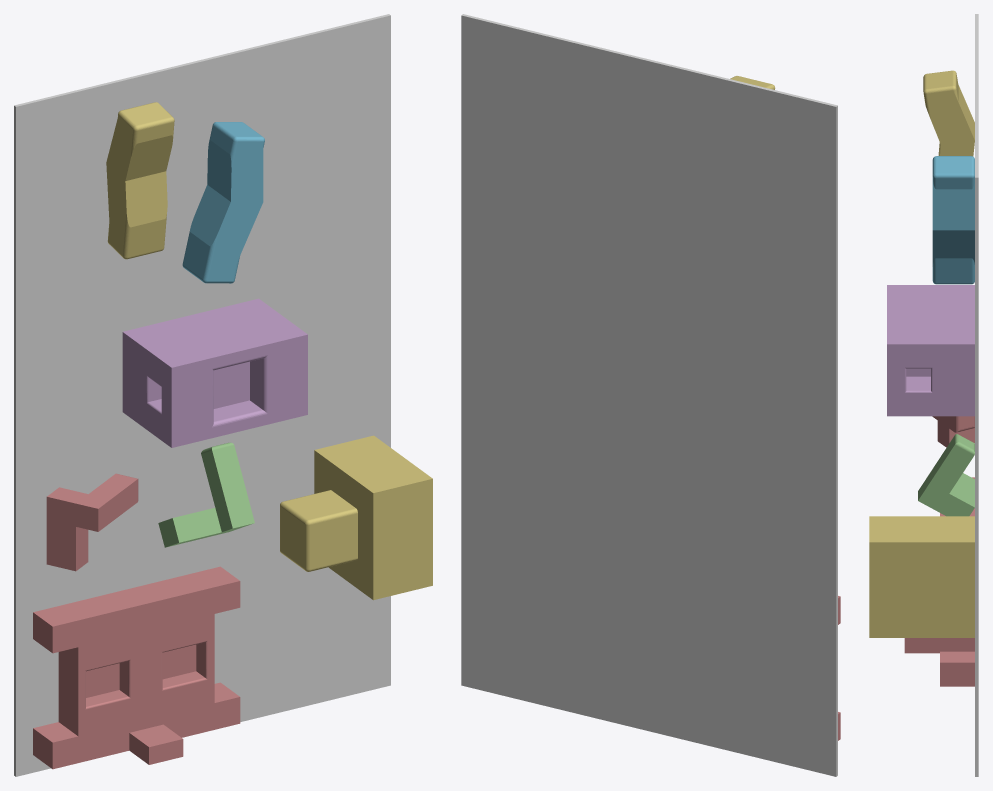
File: pickup_layout.glb
The picture shows the model from 3 angles, left to right: view 1: azimuth 30°, elevation 25°; view 2: azimuth 150°, elevation 25°; view 3: azimuth 270°, elevation 25°; orthographic projection. The views are drawn at different scales.
Parts seen in each view (by area): view 1: world, 0.obj, 3.obj, 6.obj, 2.obj, 1.obj, 5.obj, 4.obj; view 2: world; view 3: 6.obj, 3.obj, 2.obj, 1.obj, 4.obj, world, 0.obj, 5.obj.
Boxes of the visible parts, box(x1,y1,x2,y2) form: world: box(14, 14, 390, 776); 0.obj: box(33, 566, 240, 769); 3.obj: box(122, 298, 307, 447); 6.obj: box(280, 435, 432, 600); 2.obj: box(182, 122, 264, 283); 1.obj: box(106, 102, 174, 259); 5.obj: box(46, 473, 138, 571); 4.obj: box(158, 442, 254, 547); world: box(461, 14, 837, 776); 6.obj: box(869, 516, 974, 637); 3.obj: box(887, 285, 974, 416); 2.obj: box(932, 156, 974, 284); 1.obj: box(923, 70, 974, 156); 4.obj: box(918, 434, 974, 516); world: box(975, 14, 978, 776); 0.obj: box(904, 477, 974, 686); 5.obj: box(932, 416, 974, 447).
Bounding box in the file's own units: 22 × 37.57 × 6.2.
